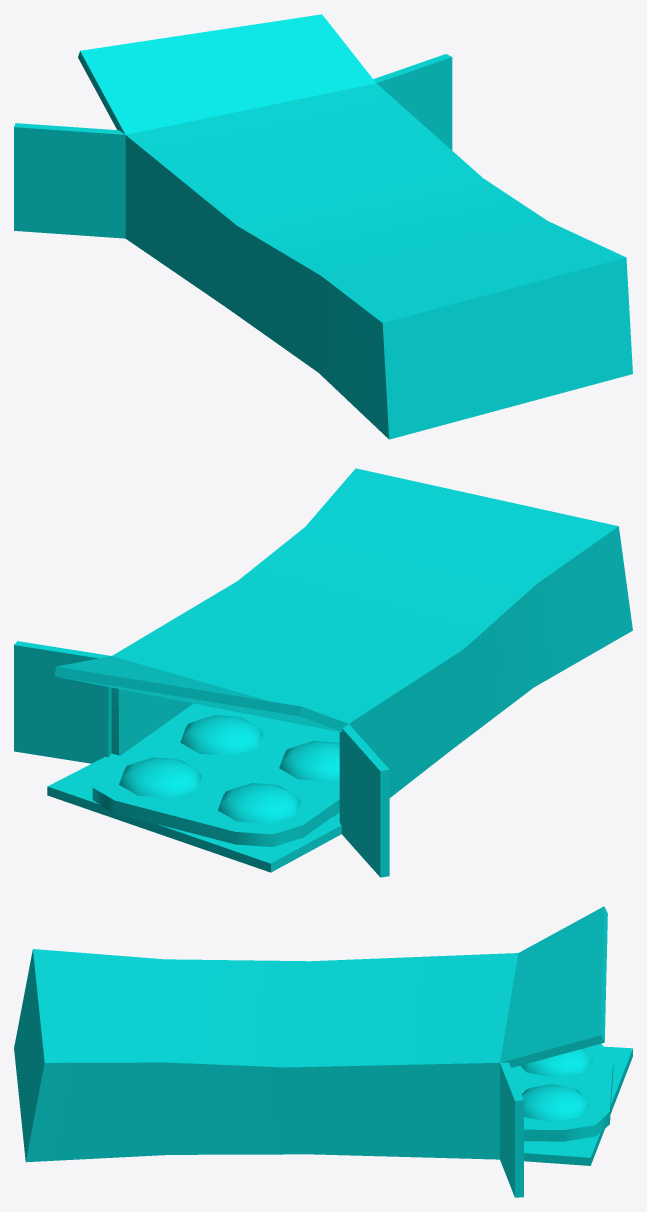
File: painkiller.fbx
3 views of the same model, one above another, from view 1: azimuth 30°, elevation 25°; view 2: azimuth 150°, elevation 25°; view 3: azimuth 270°, elevation 25° (orthographic). The views are drawn at different scales.
Parts seen in each view (by area): view 1: painkillers; view 2: painkillers; view 3: painkillers.
Boxes of the visible parts, x1,y1,x2,y2 form: painkillers: (14, 14, 632, 439); painkillers: (14, 468, 632, 877); painkillers: (14, 906, 632, 1197).
Size of the model in its own units: 0.3662 by 0.136 by 0.5251.
